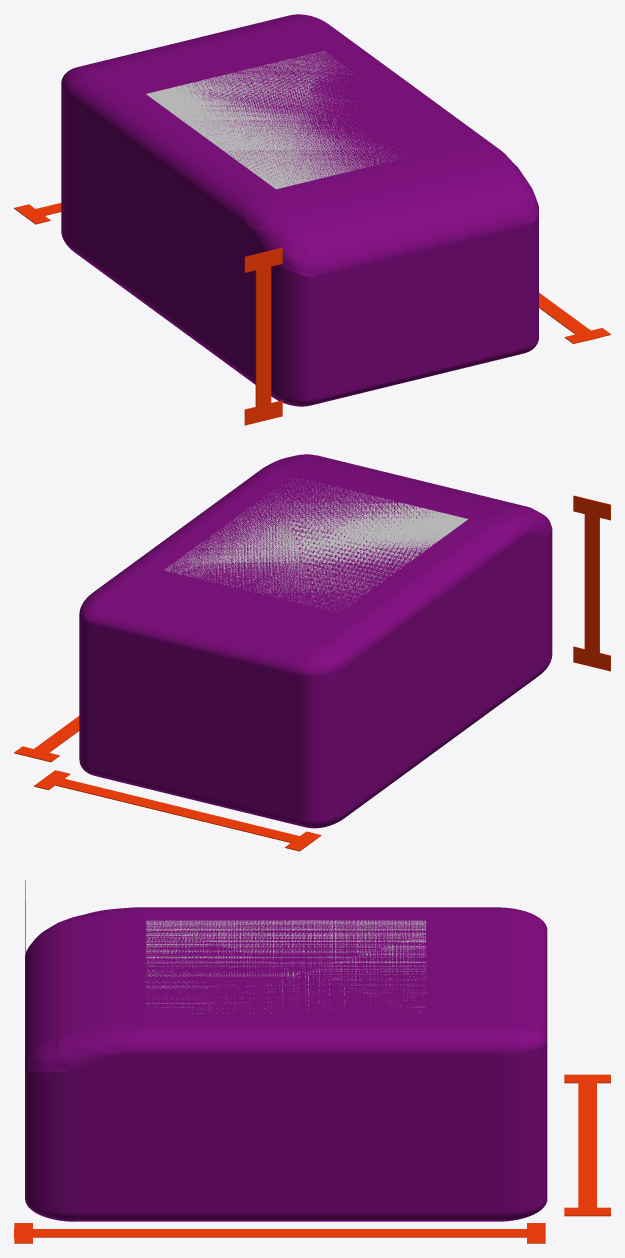
File: duffel.obj
The picture shows the model from 3 angles, top to bottom: view 1: azimuth 30°, elevation 25°; view 2: azimuth 150°, elevation 25°; view 3: azimuth 270°, elevation 25°; orthographic projection. The views are drawn at different scales.
Parts seen in each view (by area): view 1: Cube, newLogo_white, ruler_x_Plane.005, ruler_z_Plane.002, ruler_y_Plane.007; view 2: Cube, newLogo_white, ruler_x_Plane.005, ruler_y_Plane.007, ruler_z_Plane.002; view 3: Cube, newLogo_white, ruler_z_Plane.002, ruler_y_Plane.007.
Part boxes in pixels (x1=…): Cube: x1=61, y1=14, x2=538, y2=406; newLogo_white: x1=146, y1=51, x2=396, y2=189; ruler_x_Plane.005: x1=244, y1=248, x2=282, y2=425; ruler_z_Plane.002: x1=539, y1=293, x2=610, y2=343; ruler_y_Plane.007: x1=14, y1=203, x2=61, y2=224; Cube: x1=79, y1=454, x2=552, y2=828; newLogo_white: x1=164, y1=478, x2=468, y2=611; ruler_x_Plane.005: x1=573, y1=495, x2=610, y2=671; ruler_y_Plane.007: x1=34, y1=770, x2=321, y2=851; ruler_z_Plane.002: x1=14, y1=716, x2=79, y2=762; Cube: x1=25, y1=907, x2=547, y2=1221; newLogo_white: x1=146, y1=920, x2=426, y2=1013; ruler_z_Plane.002: x1=14, y1=1223, x2=545, y2=1243; ruler_y_Plane.007: x1=564, y1=1074, x2=610, y2=1216.
Bounding box in the file's own units: 0.48 × 0.23 × 0.64.
